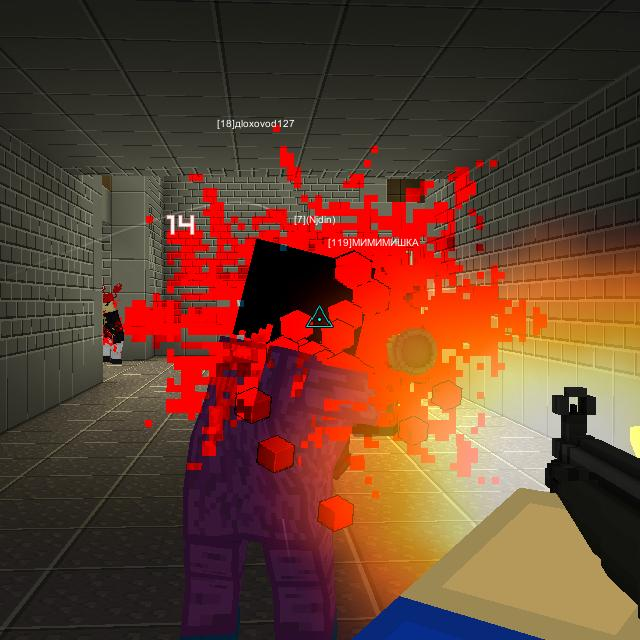enemy: (102, 283, 127, 364)
